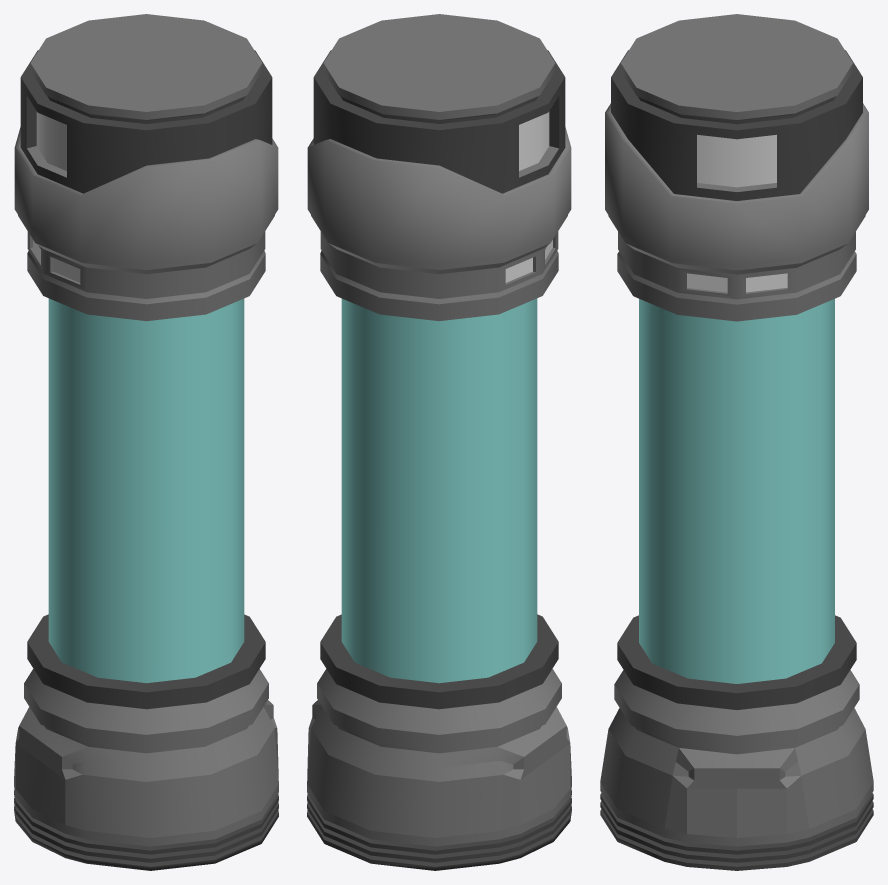
The model's file is PetrolRod.fbx.
3 views of the same model, side by side, from view 1: azimuth 30°, elevation 25°; view 2: azimuth 150°, elevation 25°; view 3: azimuth 270°, elevation 25° (orthographic).
Visible parts, largest first — view 1: PetrolRod; view 2: PetrolRod; view 3: PetrolRod.
Boxes of the visible parts, x1,y1,x2,y2 form: PetrolRod: (14,14,278,870); PetrolRod: (307,14,571,870); PetrolRod: (600,14,873,870).
Bounding box in the file's own units: 23.99 × 75.41 × 24.86.
